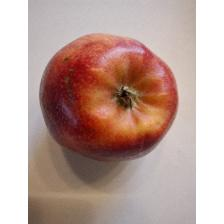Apfel: (39, 28, 183, 164)
